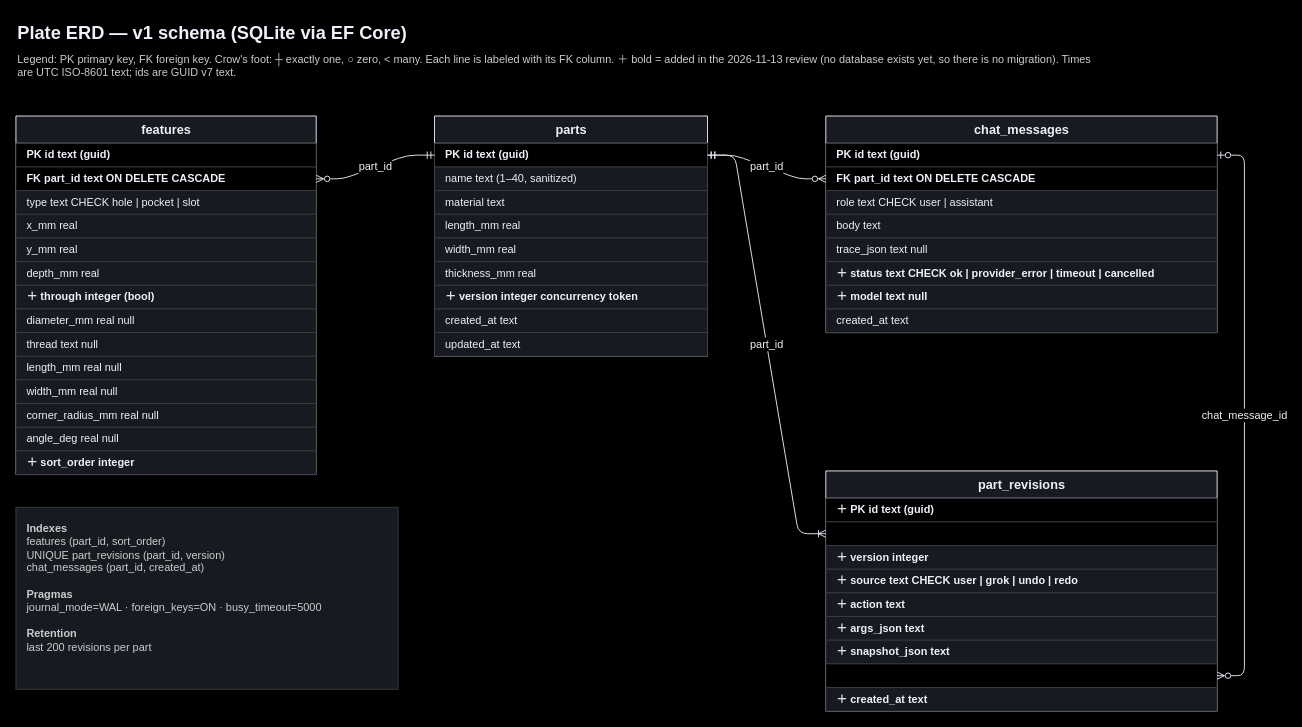
Image size: 1302x727. Some labels were removed from this diagram. Here are the shapes that lost their labels. From the top down, the centre of each, then its label:
At point 1021,533: "＋ FK part_id text ON DELETE CASCADE".
At point 1021,675: "＋ FK chat_message_id text null ON DELETE SET NULL".
